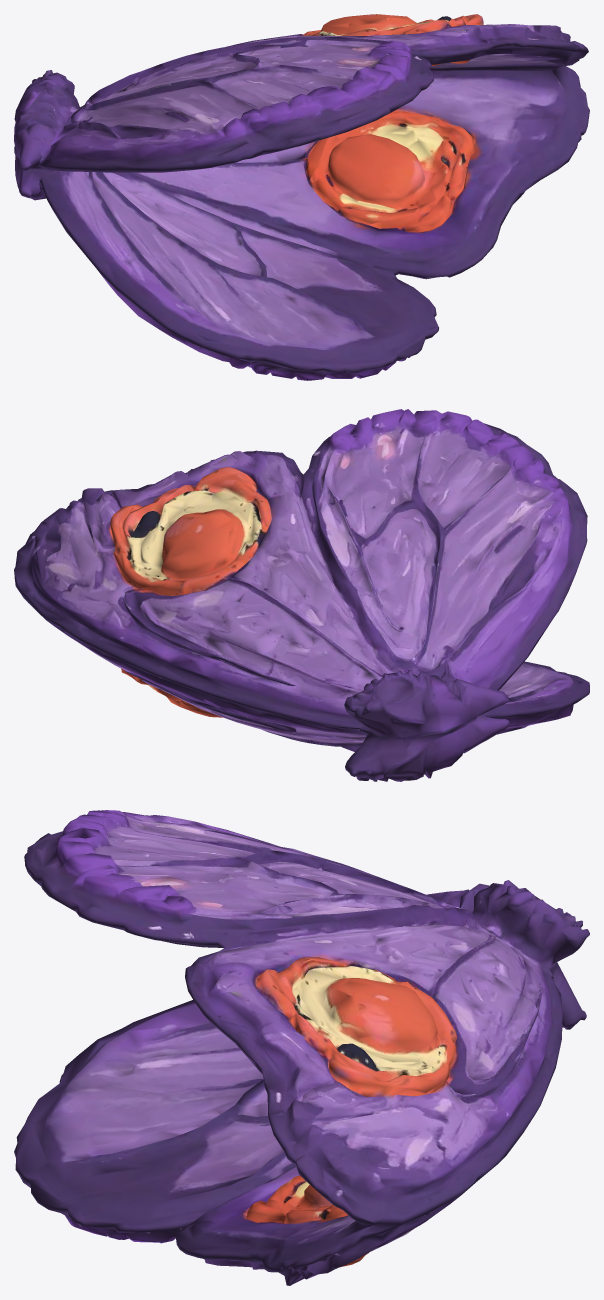
File: moth_wing.glb
3 renders of one model, top to bottom at view 1: azimuth 30°, elevation 25°; view 2: azimuth 150°, elevation 25°; view 3: azimuth 270°, elevation 25°, orthographic. The views are drawn at different scales.
Visible parts, largest first — view 1: tripo_node_545aa5cf-8834-408f-9b02-892fba439b0d; view 2: tripo_node_545aa5cf-8834-408f-9b02-892fba439b0d; view 3: tripo_node_545aa5cf-8834-408f-9b02-892fba439b0d.
Boxes of the visible parts, x1,y1,x2,y2 form: tripo_node_545aa5cf-8834-408f-9b02-892fba439b0d: (14, 14, 589, 380); tripo_node_545aa5cf-8834-408f-9b02-892fba439b0d: (14, 409, 589, 781); tripo_node_545aa5cf-8834-408f-9b02-892fba439b0d: (14, 810, 589, 1285).
Bounding box in the file's own units: 0.9 × 0.4683 × 0.687.
1 material, 1 textured.
